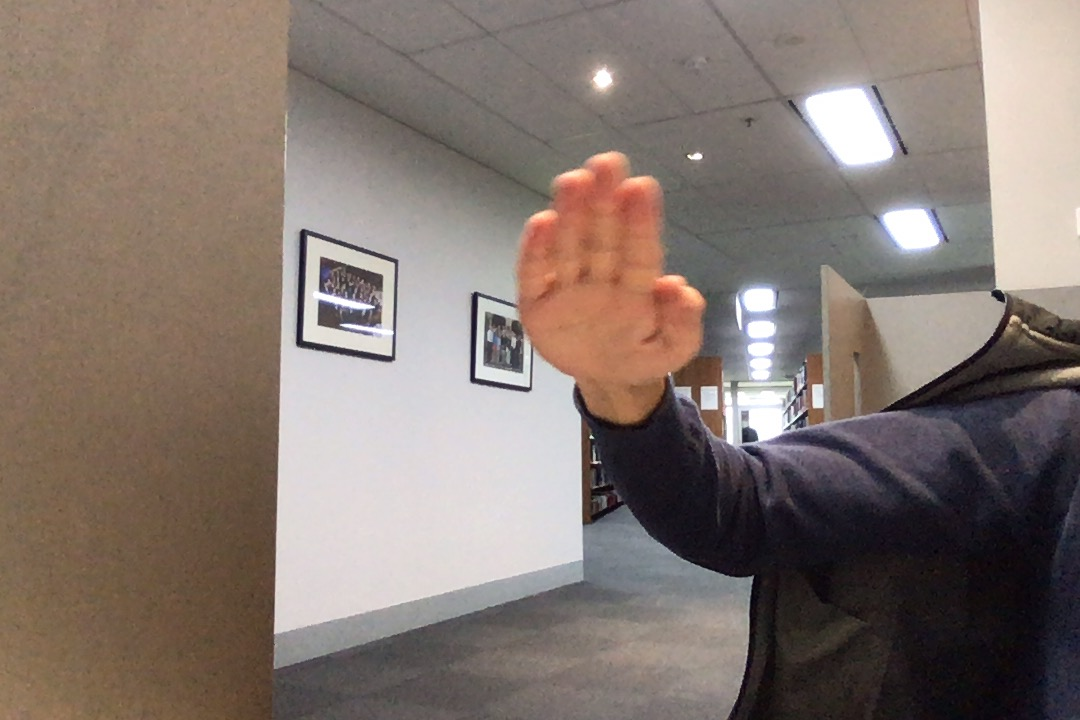palmhand: (503, 146, 715, 394)
